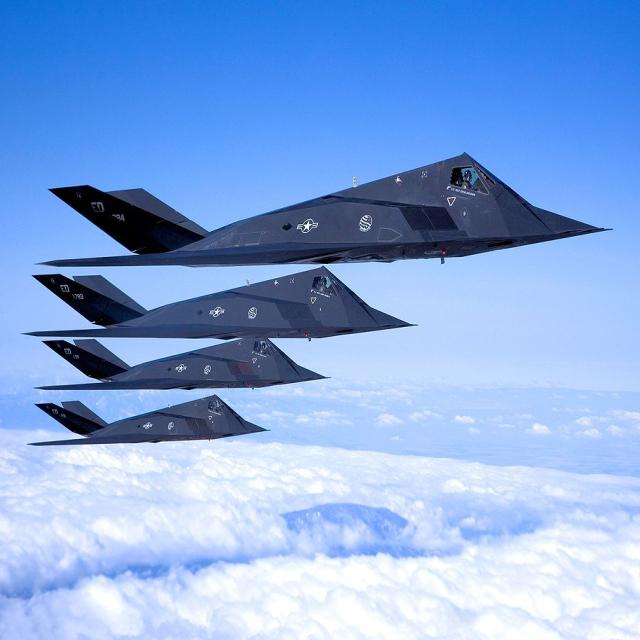MIL_Plane: (33, 152, 615, 266), (20, 246, 419, 360), (33, 337, 331, 391), (26, 394, 272, 446)
